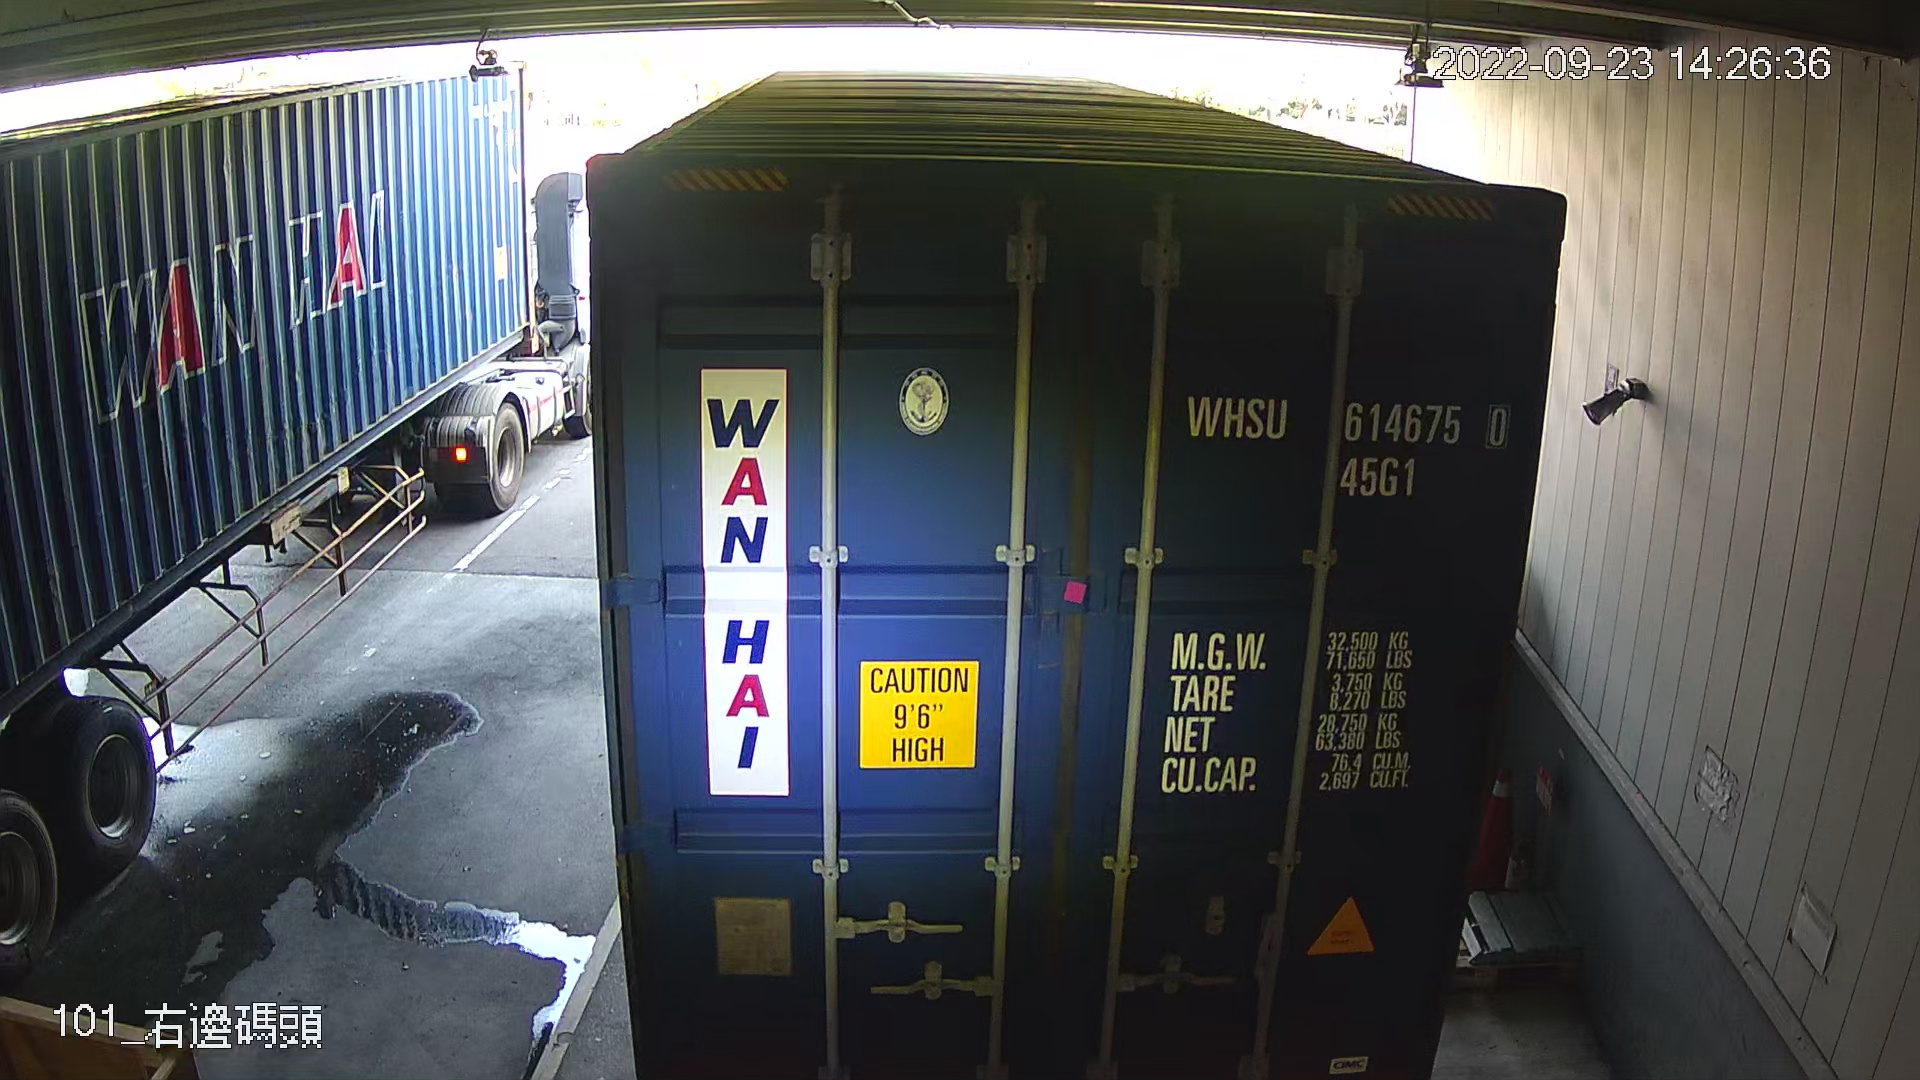container: (1174, 373, 1519, 505)
